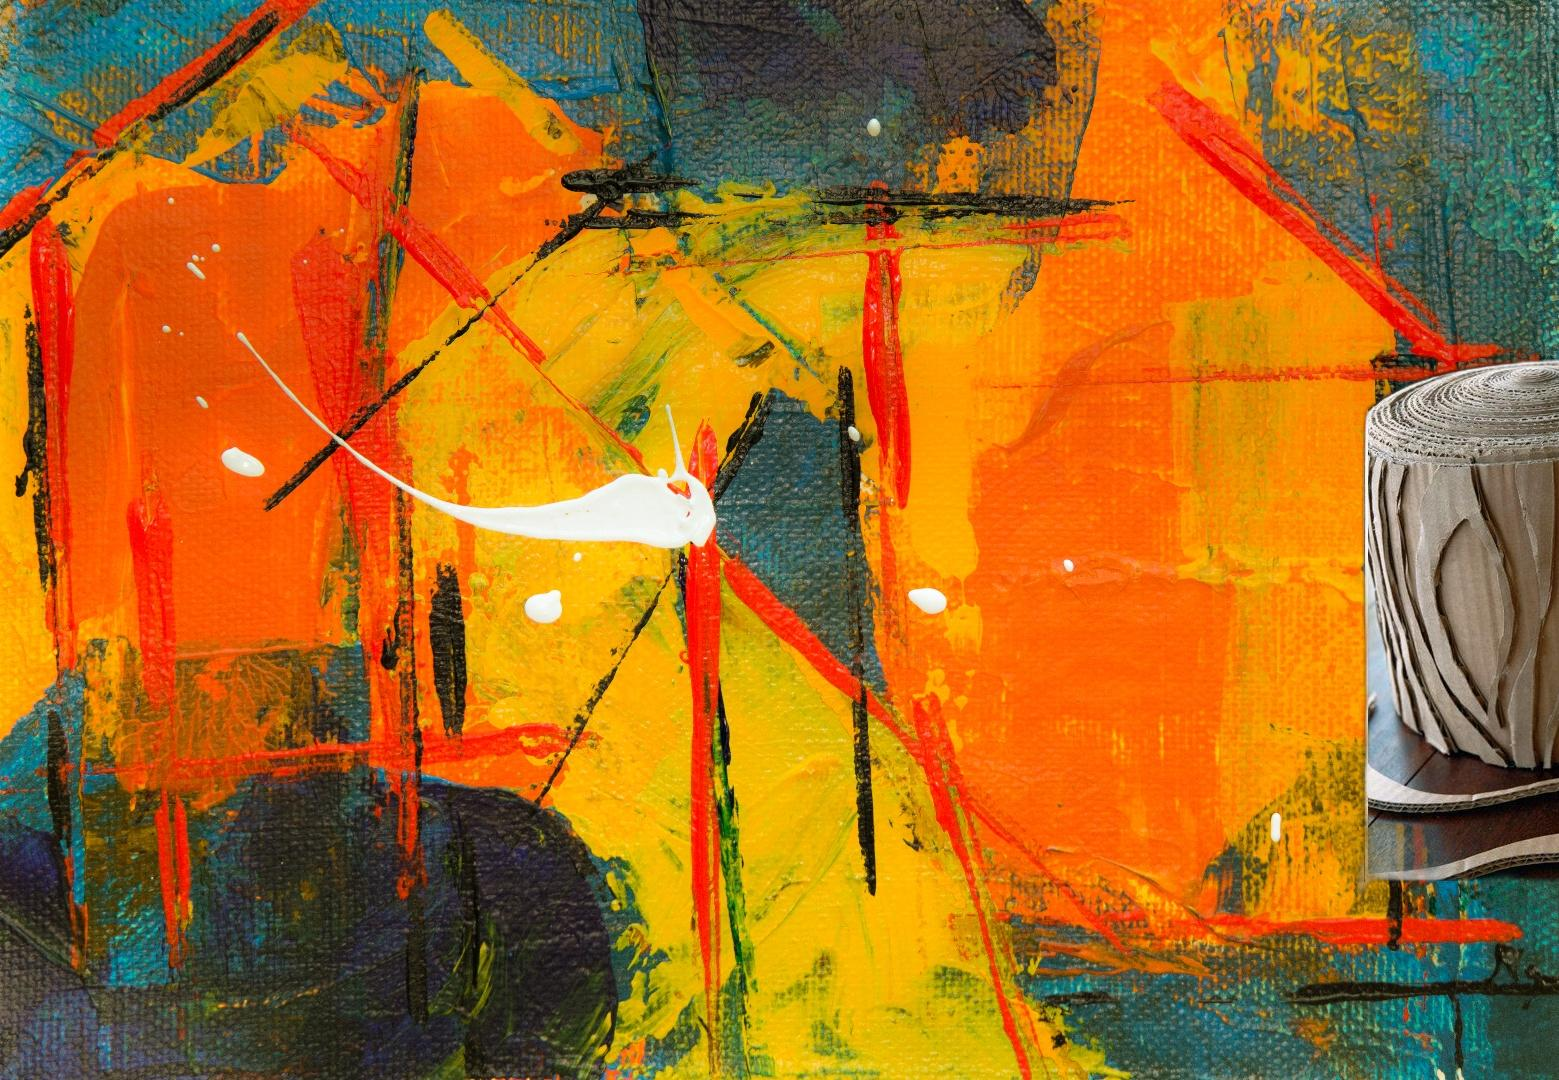trashbox-cardboard: (1349, 352, 1559, 917)
